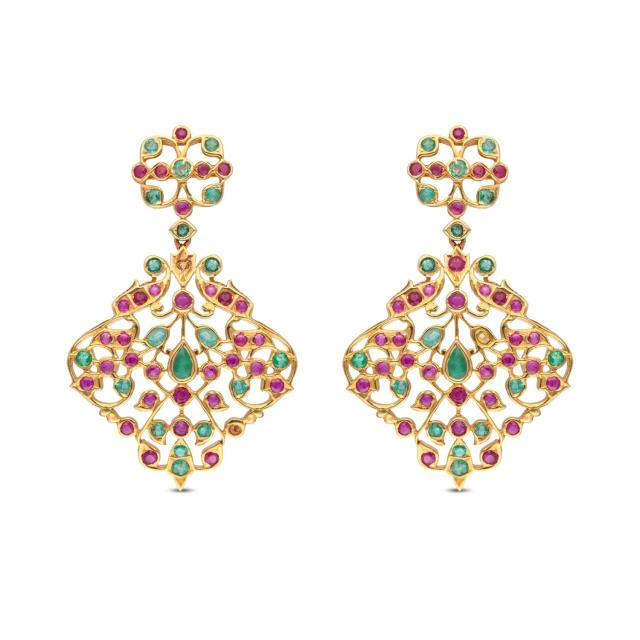missing gem: (474, 328, 491, 344), (176, 257, 192, 272), (229, 424, 243, 435)
